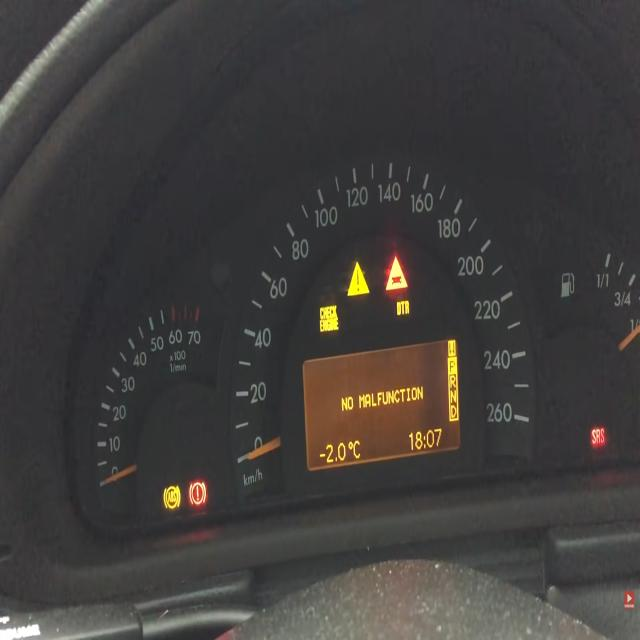Anti Lock Braking System: (163, 485, 182, 510), (189, 481, 207, 506)
Check Engine: (319, 304, 340, 332)
Master warning light: (346, 261, 371, 297)
SRS-Airbag: (591, 427, 605, 445)
